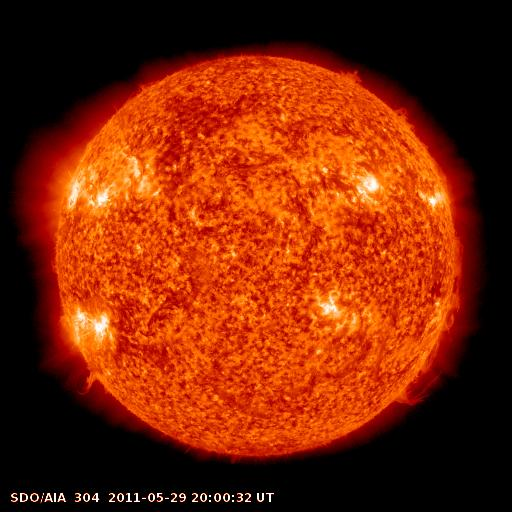prominence: (390, 336, 457, 412), (431, 230, 473, 332), (67, 360, 113, 404), (329, 56, 372, 93), (388, 96, 418, 139)
